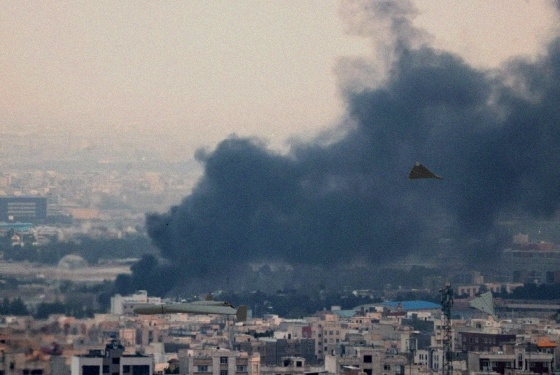shahed: (133, 296, 242, 318), (471, 287, 499, 322), (406, 159, 443, 183)
